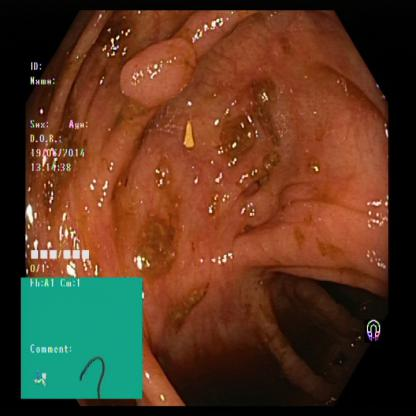Labels: (25, 56, 102, 277), (22, 278, 146, 395), (362, 310, 388, 353)
Polyps: (118, 42, 206, 115)
